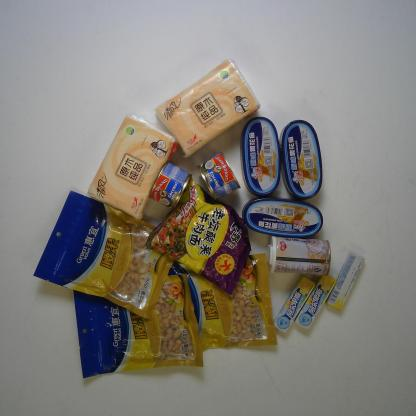Candy: (272, 275, 317, 333), (326, 250, 366, 312), (295, 272, 337, 331)
Canned Food: (278, 120, 324, 199), (242, 197, 324, 239), (239, 117, 281, 197), (266, 236, 334, 276), (195, 152, 242, 201), (149, 160, 193, 209)
Dried Fruit: (32, 189, 172, 320), (73, 273, 204, 379), (155, 253, 280, 353)
Instant Noodles: (144, 178, 254, 293)
Tissue: (154, 58, 262, 157), (86, 114, 178, 221)
